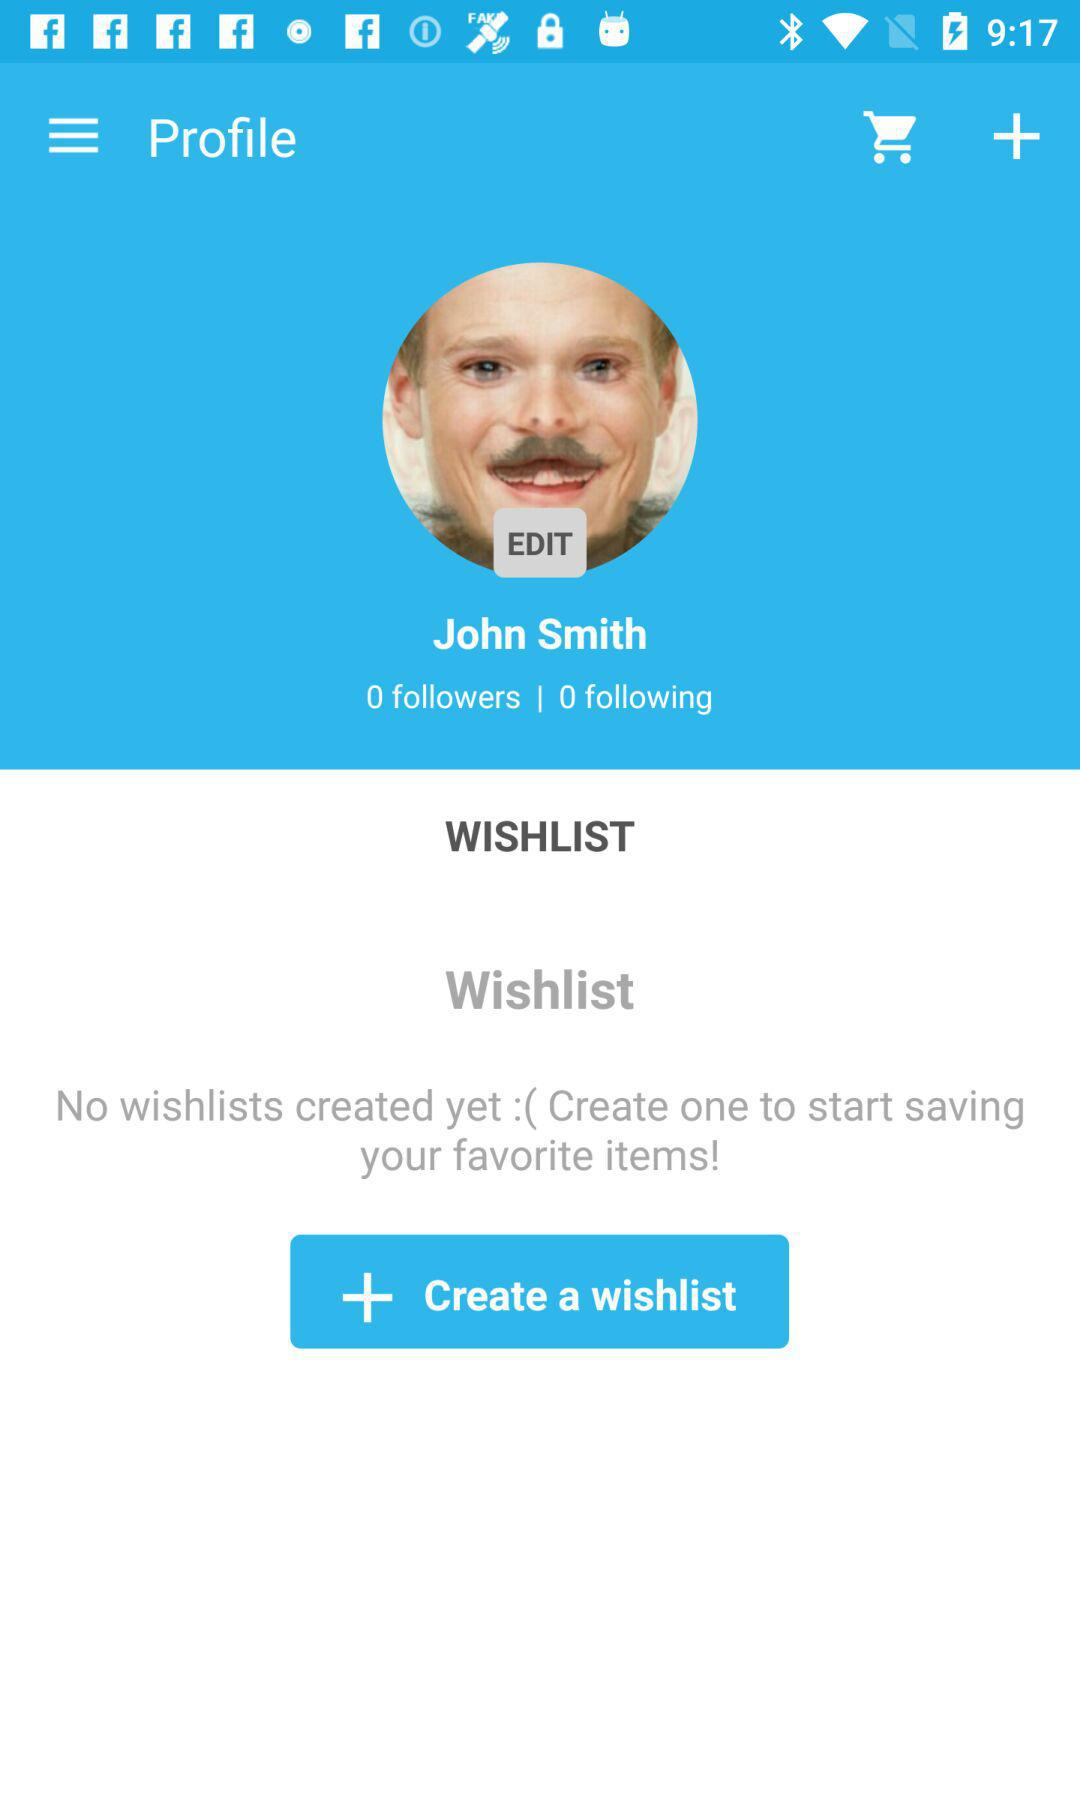Icon: (861, 110, 919, 167), (992, 111, 1042, 161), (47, 117, 102, 156)
Image: (380, 265, 698, 580)
Text: (56, 1088, 1024, 1181), (366, 682, 712, 718), (445, 967, 635, 1011), (432, 616, 647, 652), (149, 117, 299, 161), (445, 819, 637, 853)
TextButton: (290, 1233, 790, 1351)
UpperTaskBar: (1, 1, 1080, 64)
